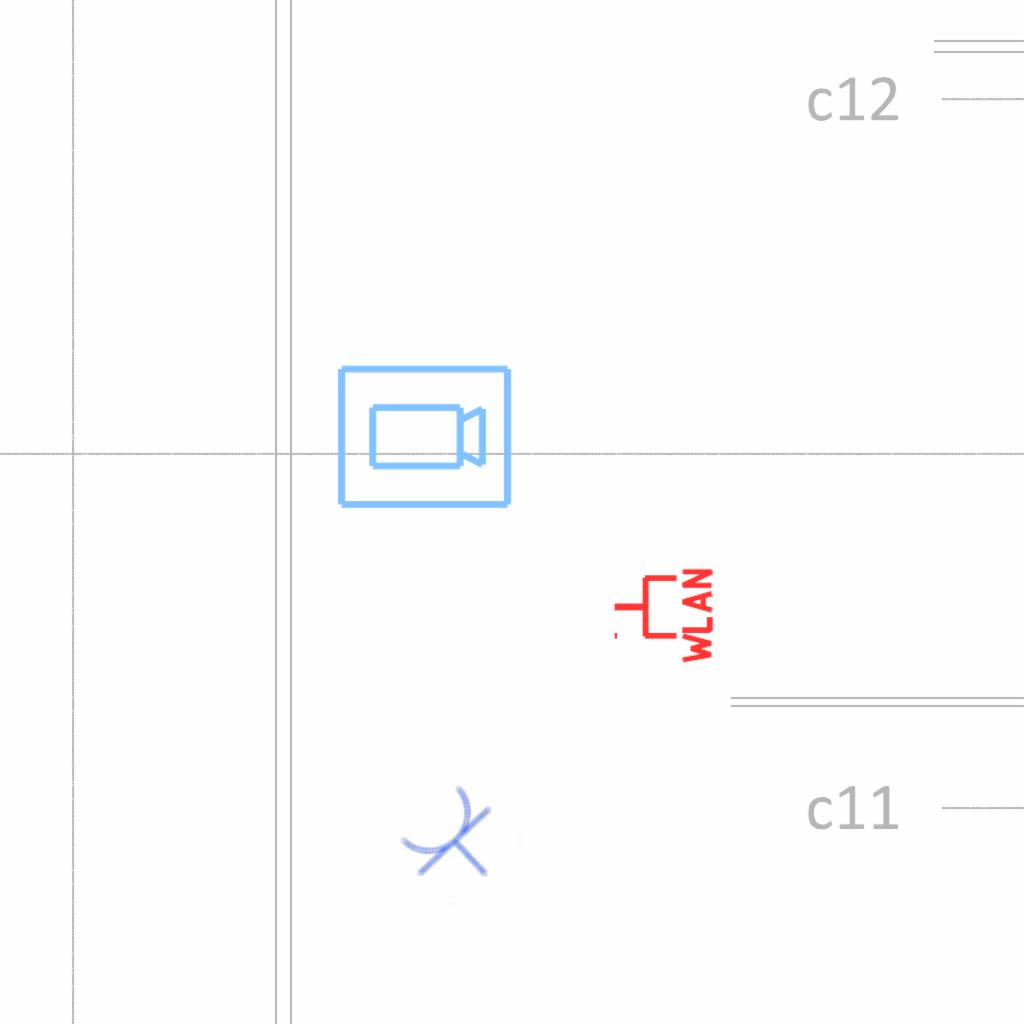KFO_Kamera_mit_Festobjektiv: (333, 361, 515, 515)
Schukosteckdose_einfach: (390, 776, 524, 909)
WLAN: (610, 564, 715, 668)
